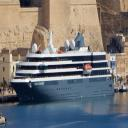cruises: (10, 31, 117, 105)
